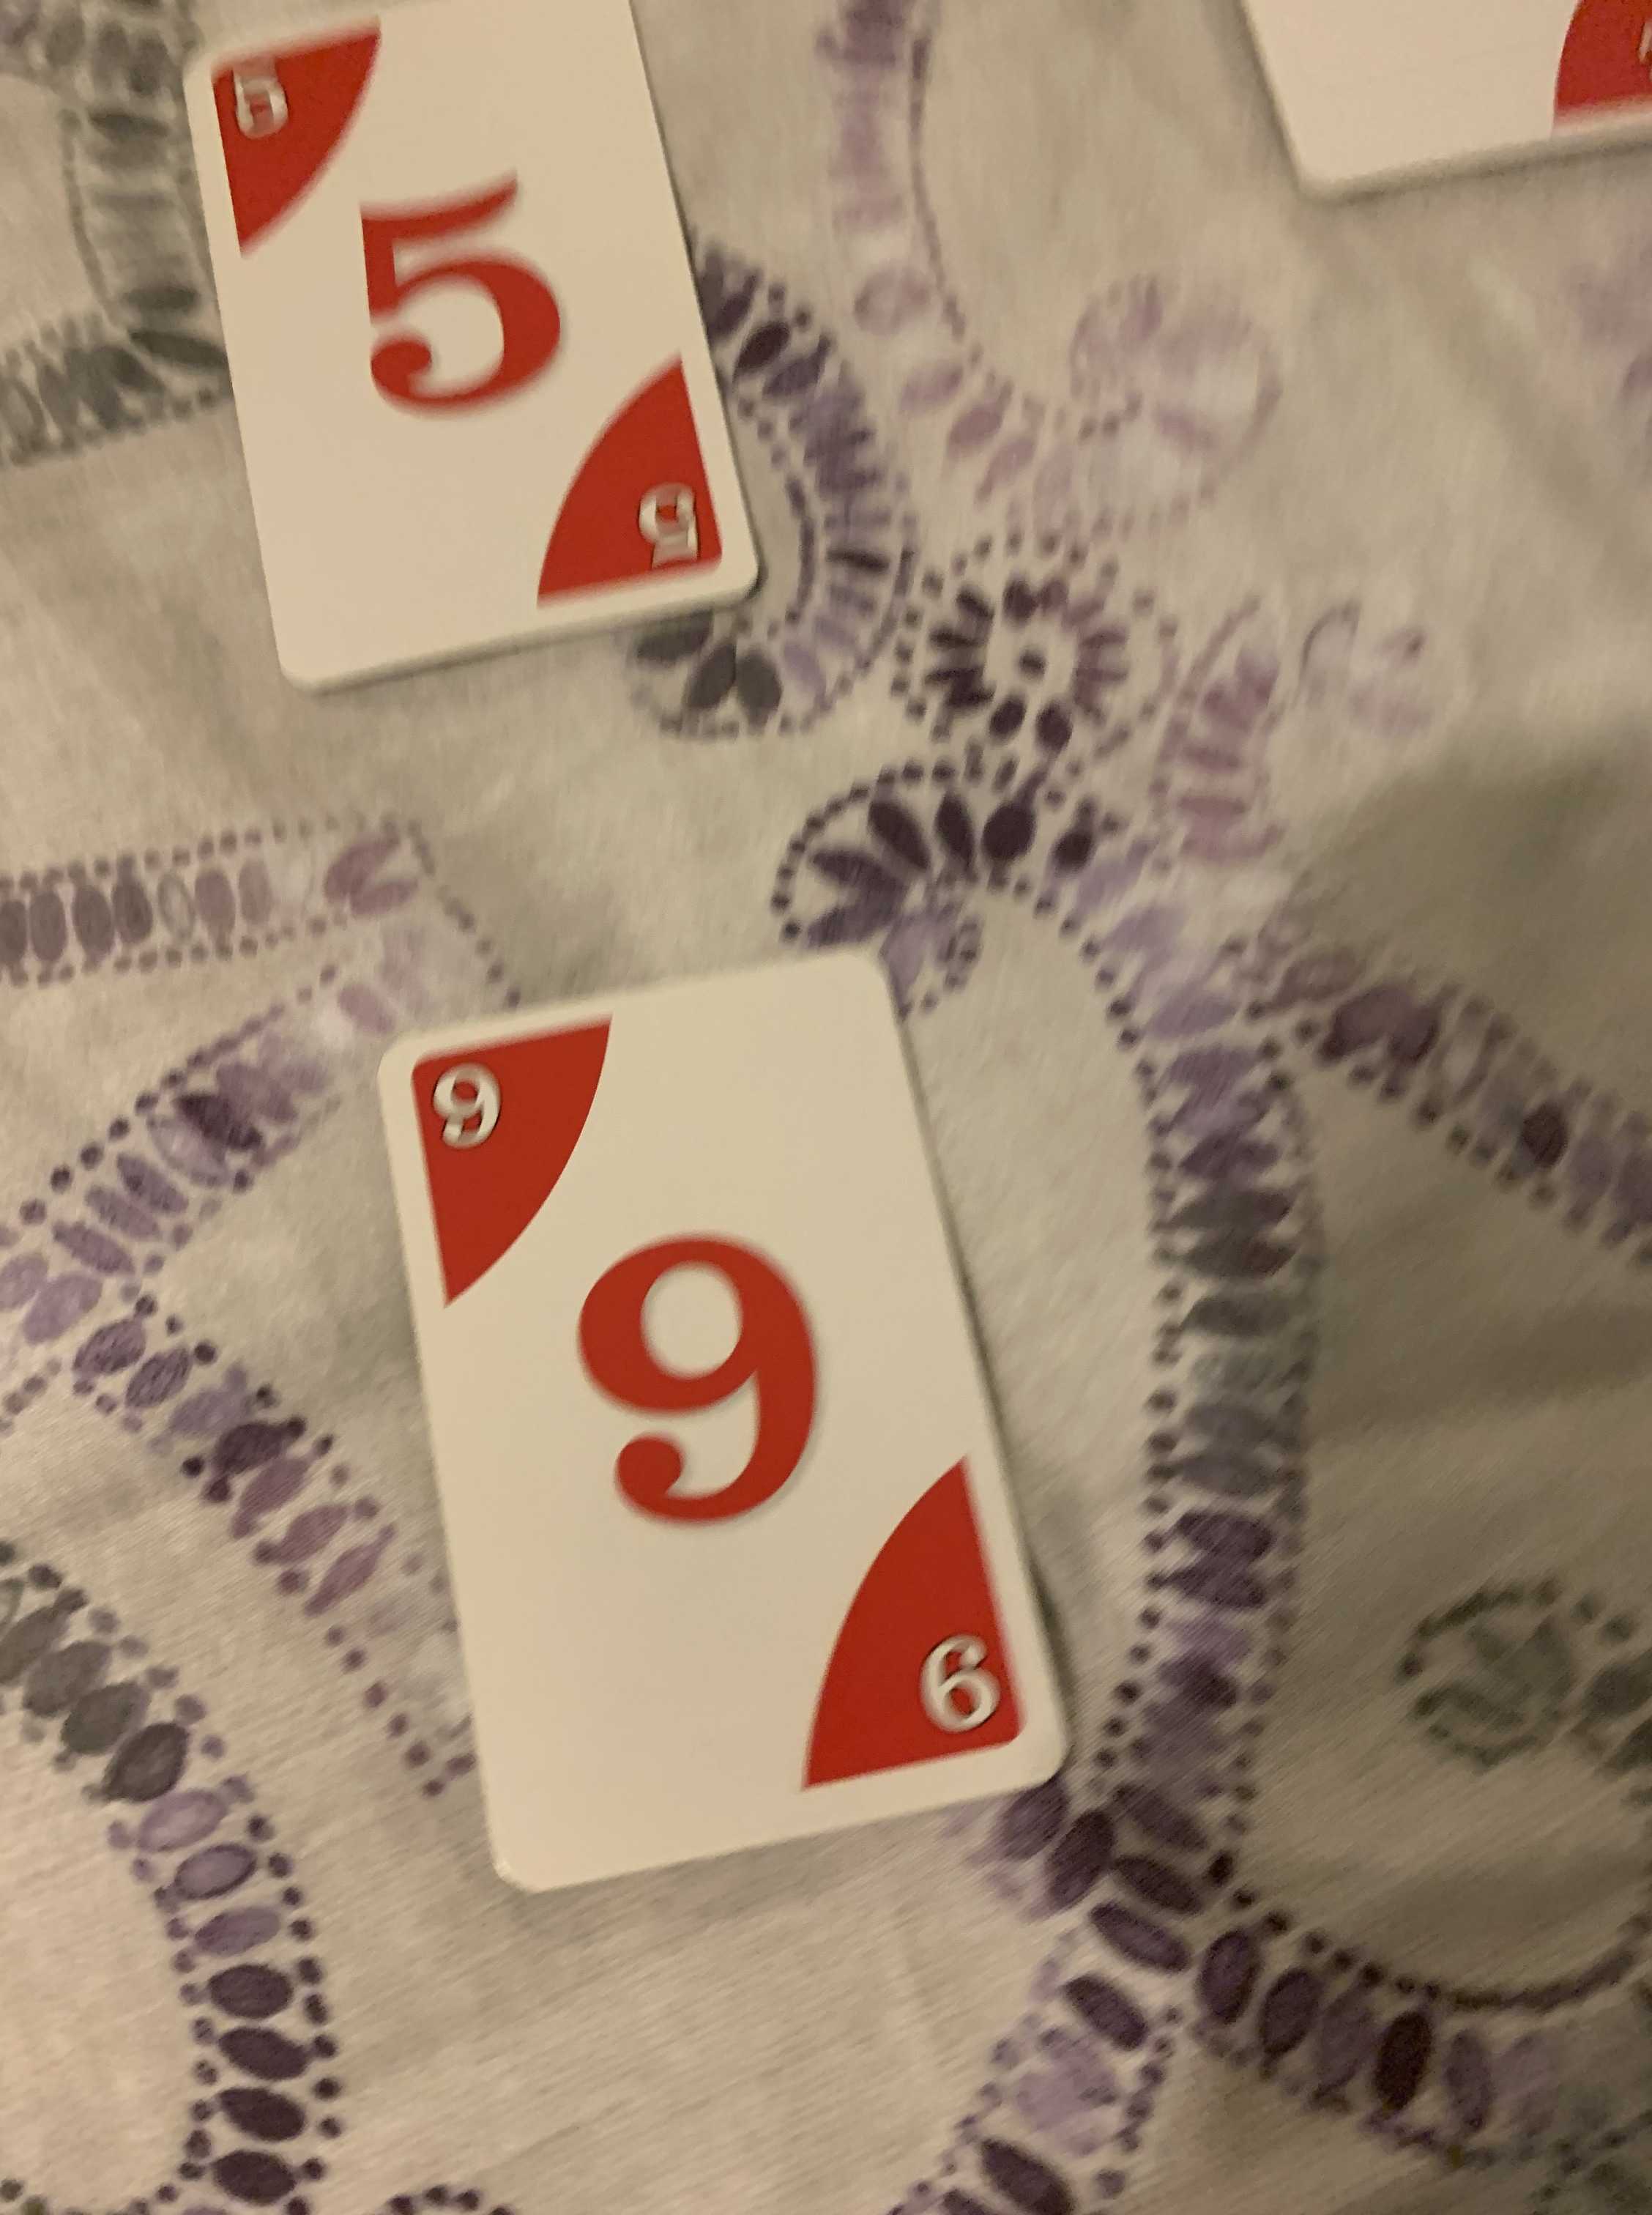five: (160, 0, 767, 703)
nine: (366, 944, 1085, 1901)
